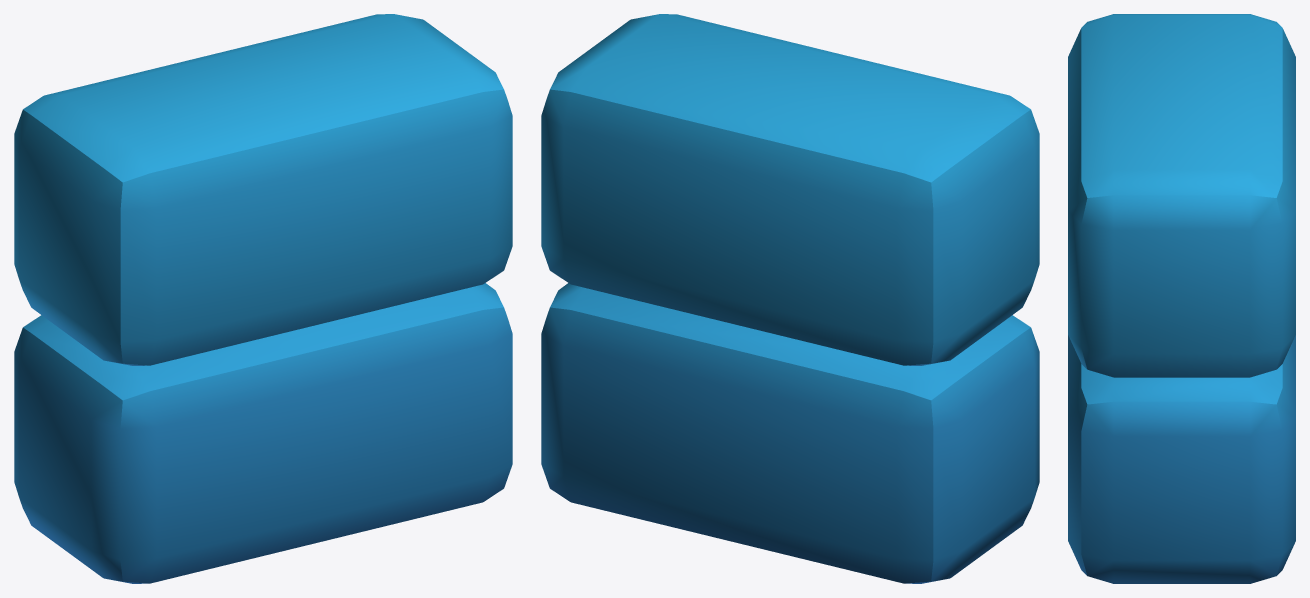
Rendered from barrier-2x1x2-blue.glb.
3 views of the same model, side by side, from view 1: azimuth 30°, elevation 25°; view 2: azimuth 150°, elevation 25°; view 3: azimuth 270°, elevation 25° (orthographic). The views are drawn at different scales.
Visible parts, largest first — view 1: barrier_2x1x2_blue; view 2: barrier_2x1x2_blue; view 3: barrier_2x1x2_blue.
Boxes of the visible parts, <box> form: barrier_2x1x2_blue: <box>14,14,512,583</box>; barrier_2x1x2_blue: <box>541,14,1039,583</box>; barrier_2x1x2_blue: <box>1068,14,1295,583</box>.
Size of the model in its own units: 2 by 2 by 1.
1 material, 1 textured.
